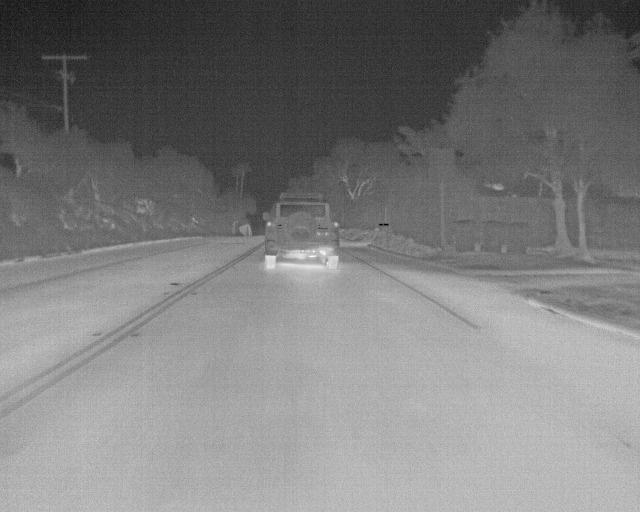vehicle: (262, 200, 338, 272)
